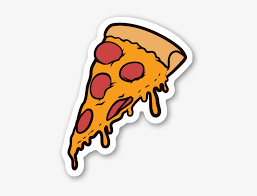pizza: (51, 10, 206, 175)
